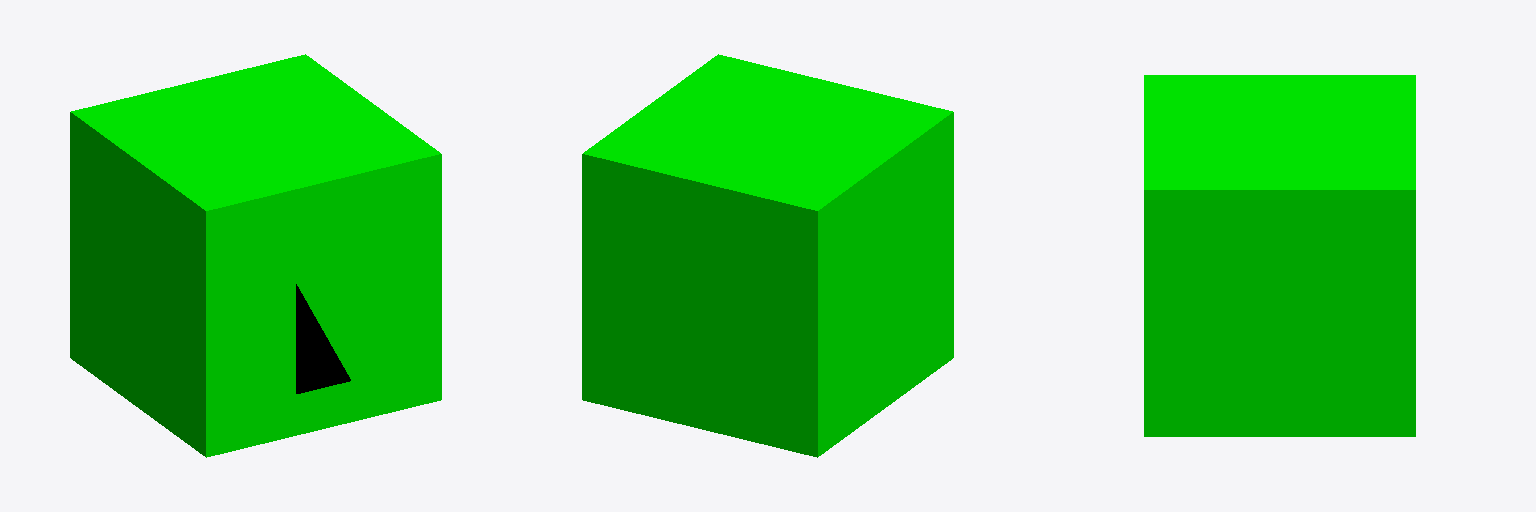
File: Cross_cube_bottle.obj
3 renders of one model, left to right at view 1: azimuth 30°, elevation 25°; view 2: azimuth 150°, elevation 25°; view 3: azimuth 270°, elevation 25°, orthographic.
Parts seen in each view (by area): view 1: Cube.001; view 2: Cube.001; view 3: Cube.001.
Part boxes in pixels (x1,y1,x2,y2): Cube.001: (70, 54, 441, 457); Cube.001: (582, 54, 953, 457); Cube.001: (1144, 75, 1415, 436).
Bounding box in the file's own units: 0.08 × 0.08 × 0.08.